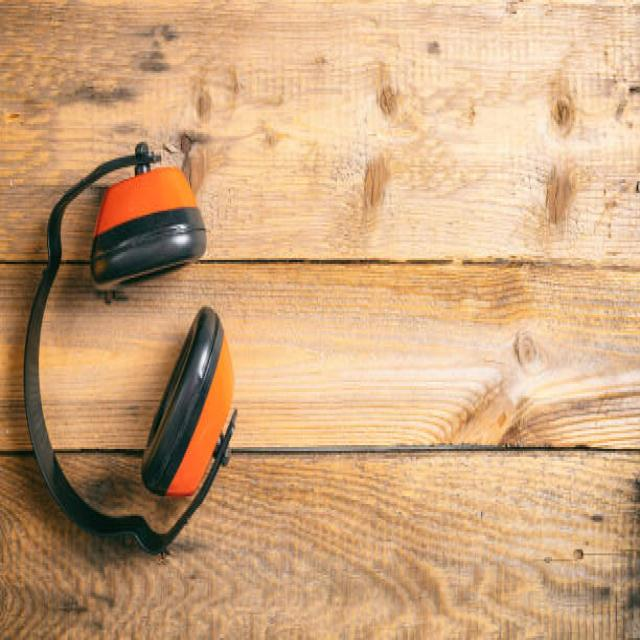Ear-protection: (15, 140, 242, 560)
